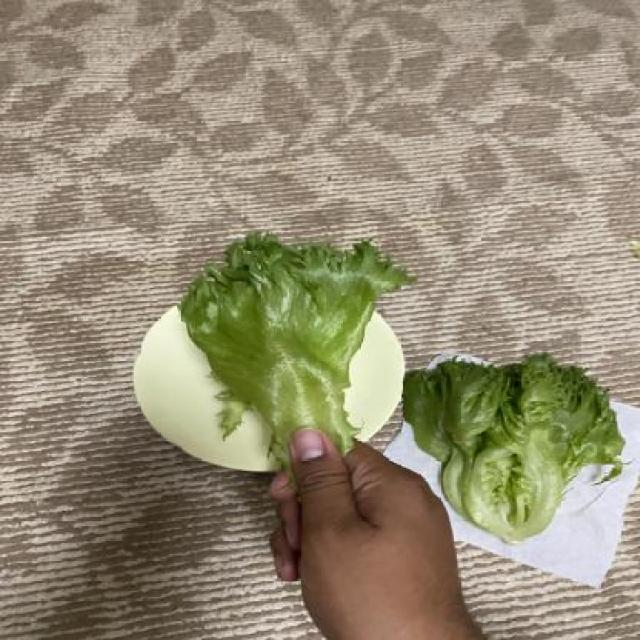Lettuce head: (182, 229, 420, 487), (402, 354, 632, 547)
